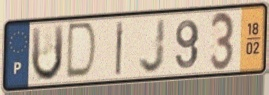3: (209, 9, 237, 74)
9: (174, 17, 201, 70)
D: (63, 20, 99, 82)
I: (114, 20, 126, 78)
J: (137, 16, 167, 76)
U: (29, 22, 66, 84)
